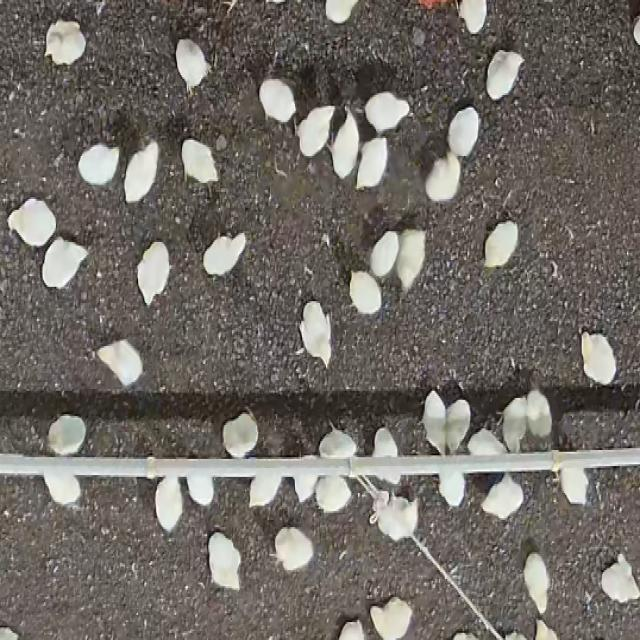broiler: (42, 237, 87, 287), (8, 199, 55, 246), (328, 108, 358, 177), (137, 242, 169, 305), (300, 301, 331, 366), (98, 341, 142, 385), (364, 91, 409, 133), (126, 142, 158, 201), (600, 554, 639, 602), (208, 532, 240, 590), (296, 106, 333, 156), (481, 473, 522, 518), (581, 332, 616, 384), (485, 50, 522, 99), (396, 229, 425, 290), (370, 597, 412, 638), (45, 20, 84, 64), (79, 143, 119, 185), (275, 527, 313, 570), (205, 233, 244, 274), (425, 152, 459, 199), (177, 39, 208, 90), (356, 136, 387, 186), (447, 106, 478, 156), (259, 79, 295, 122), (222, 412, 258, 455), (523, 552, 548, 613), (181, 140, 217, 181), (155, 477, 182, 531), (484, 221, 517, 265), (48, 414, 84, 454), (422, 391, 445, 452), (350, 271, 381, 314), (370, 231, 399, 276), (445, 400, 470, 452), (319, 423, 357, 457), (315, 475, 350, 511), (502, 398, 526, 450), (44, 471, 80, 504), (526, 389, 551, 436), (250, 471, 281, 506), (559, 468, 588, 504), (439, 470, 465, 506), (468, 428, 506, 452), (187, 473, 213, 504), (294, 471, 318, 500), (372, 427, 396, 455), (379, 473, 399, 482)
pipe: (0, 446, 639, 477)
